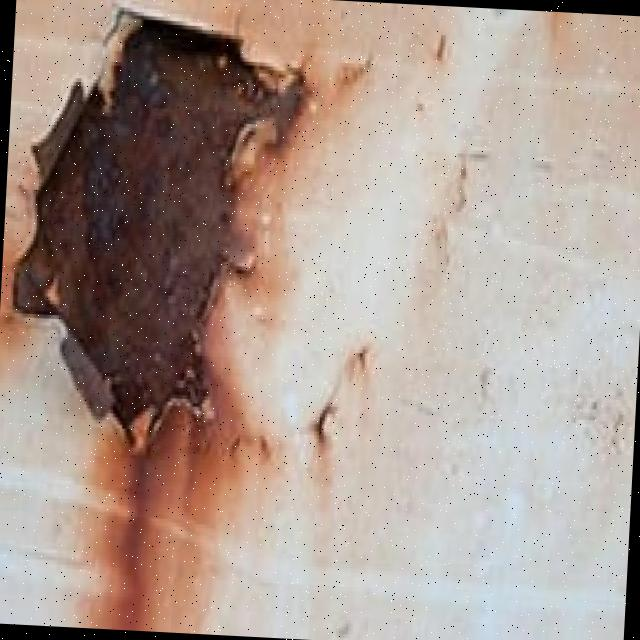Corrosion: (3, 9, 316, 460)
